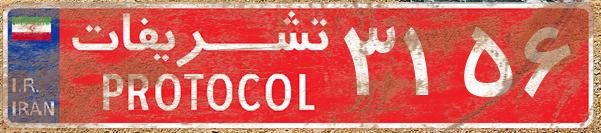1: (400, 20, 460, 115)
3: (340, 20, 400, 115)
5: (460, 20, 520, 115)
6: (520, 20, 580, 115)
تشریفات: (60, 8, 340, 125)
